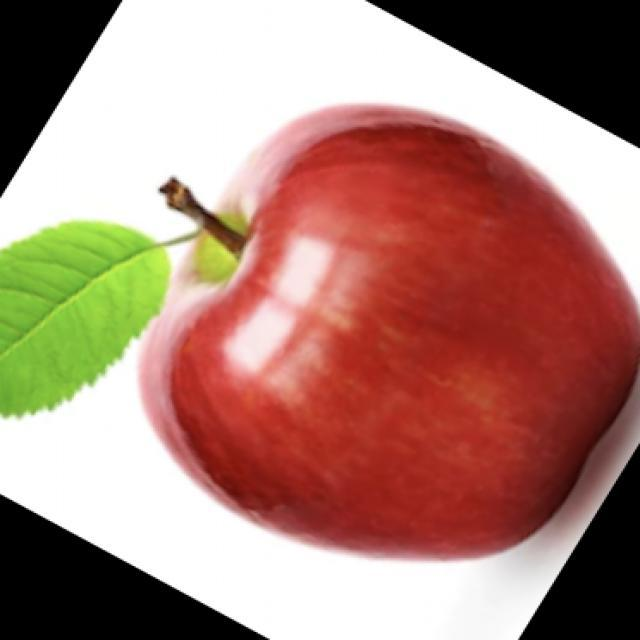Fresh Apple: (118, 90, 640, 550)
